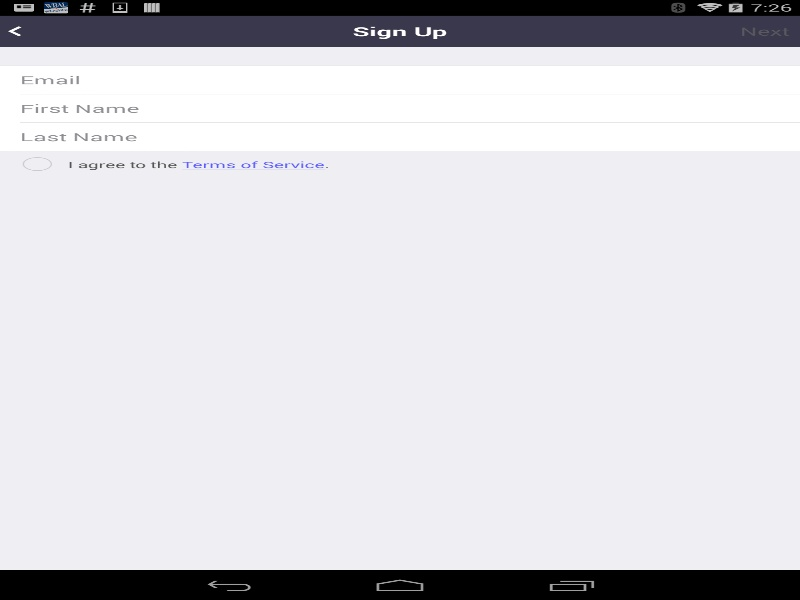Button: (733, 21, 796, 40), (4, 19, 45, 43)
Input: (20, 72, 786, 87), (20, 100, 786, 115), (20, 129, 786, 144)
